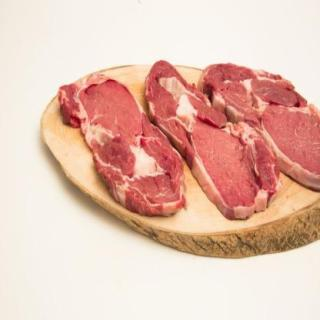Daging Sapi: (149, 61, 281, 221), (59, 75, 187, 214), (204, 65, 320, 192)
